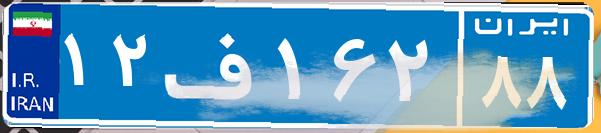1: (273, 28, 330, 110), (57, 26, 110, 107)
2: (385, 28, 445, 110), (110, 28, 158, 105)
6: (330, 28, 385, 110)
8: (475, 38, 525, 113), (525, 38, 570, 115)
ف: (158, 15, 273, 115)
